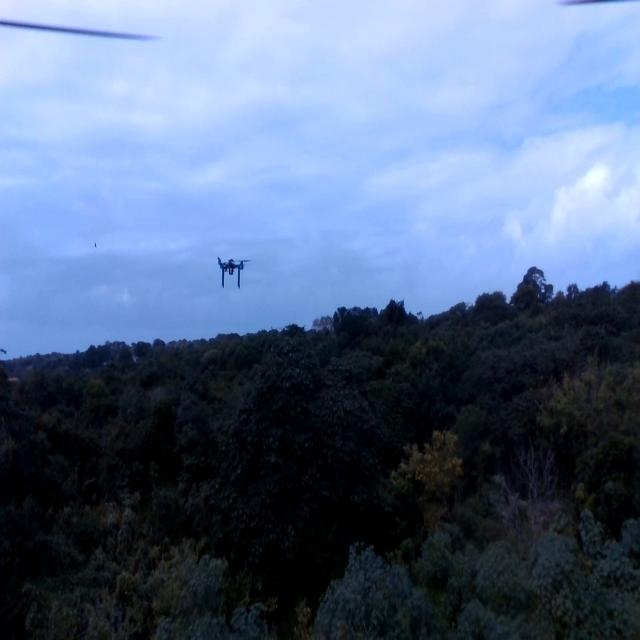-uav-: (211, 247, 261, 307)
